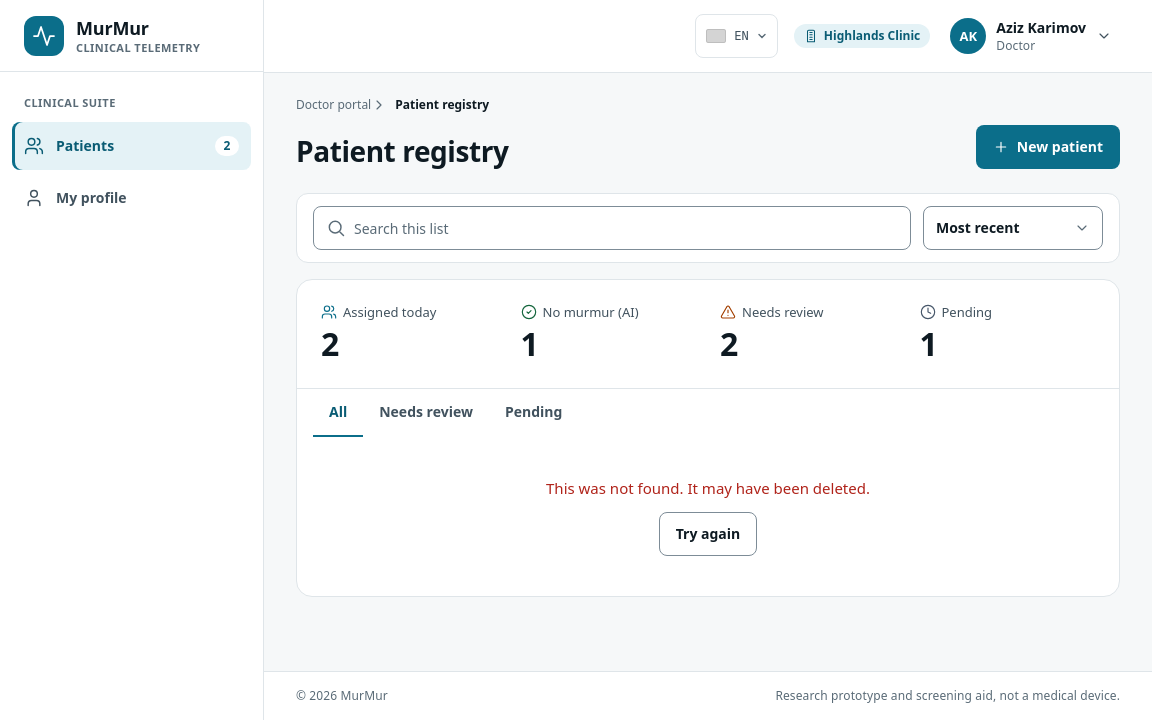
Test: patient registry › a load error explains and retries
The image size is (1152, 720).
Click the button "Try again". click: x=708, y=534
box: [659,512,757,556]
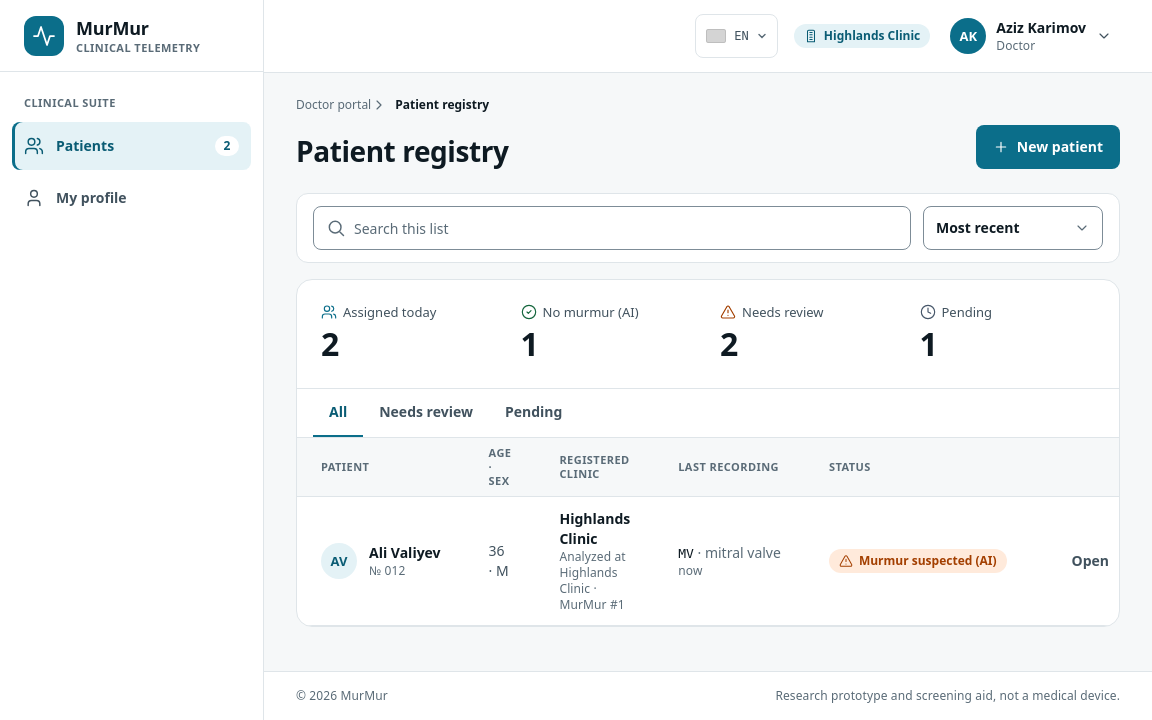
expect the text "Ali Valiyev" is shown: met, box [369,543,441,563]
